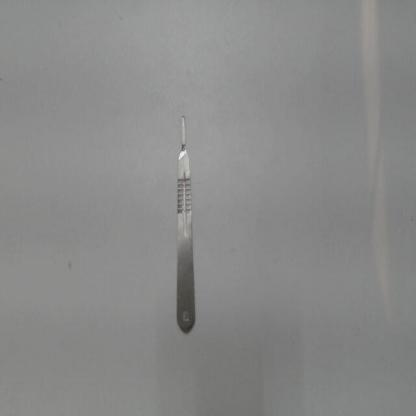No.3 BP Handle: (172, 103, 198, 337)
